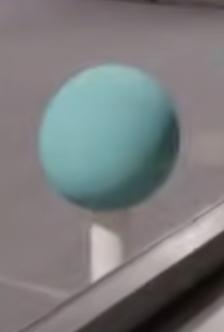algae: (37, 64, 181, 212)
coral: (89, 207, 126, 282)
